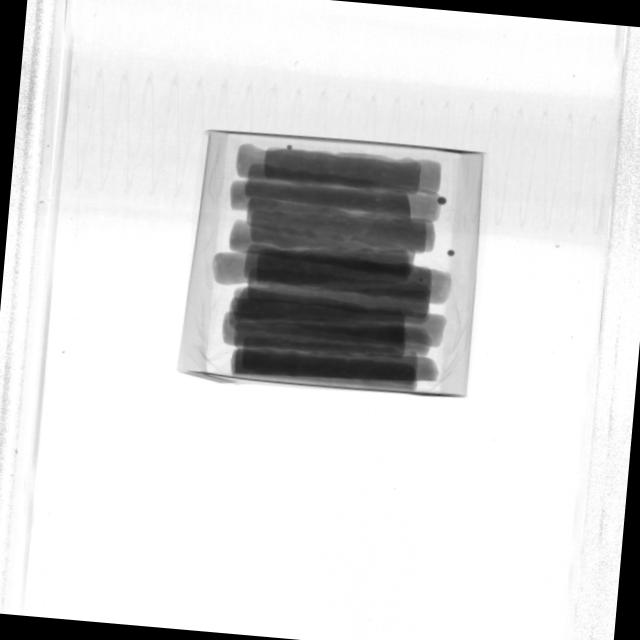ym: (437, 196, 447, 206), (448, 249, 455, 256), (287, 145, 293, 150), (420, 277, 425, 282)
